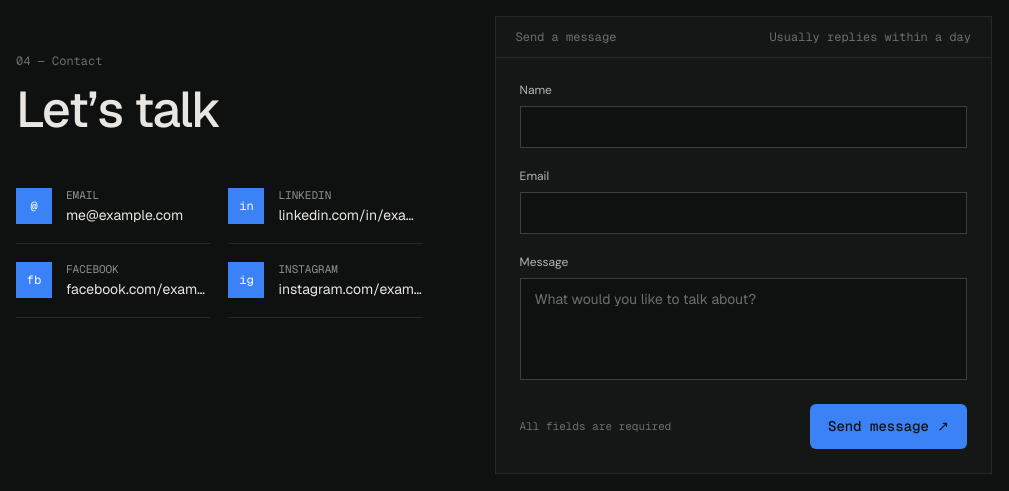
Scenario: Contact › disables the submit button while sending
This screenshot has width=1009, height=491.
Type "Jane Doe" into the field labelled "Name". click: (743, 127)
box: [520, 106, 967, 148]
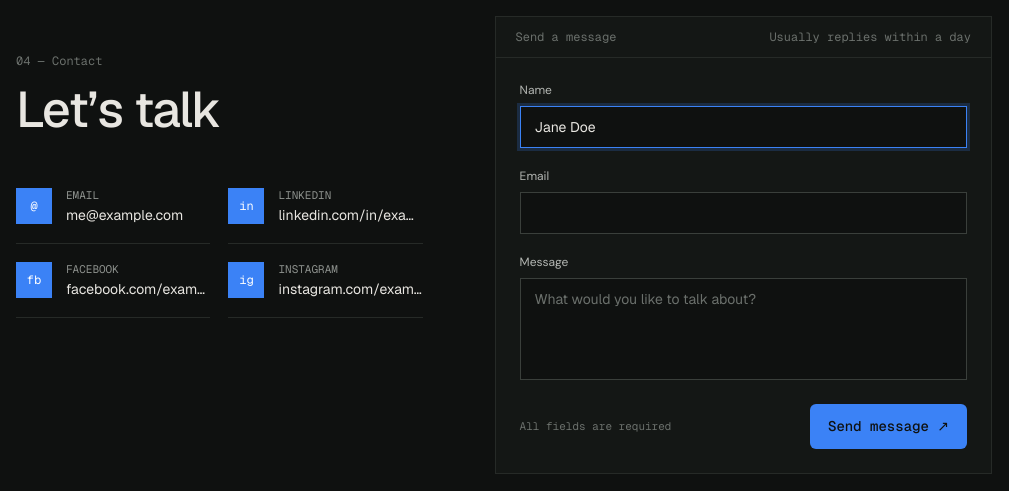
Type "jane@example.com" into the field labelled "Email". click: (743, 213)
box: [520, 192, 967, 234]
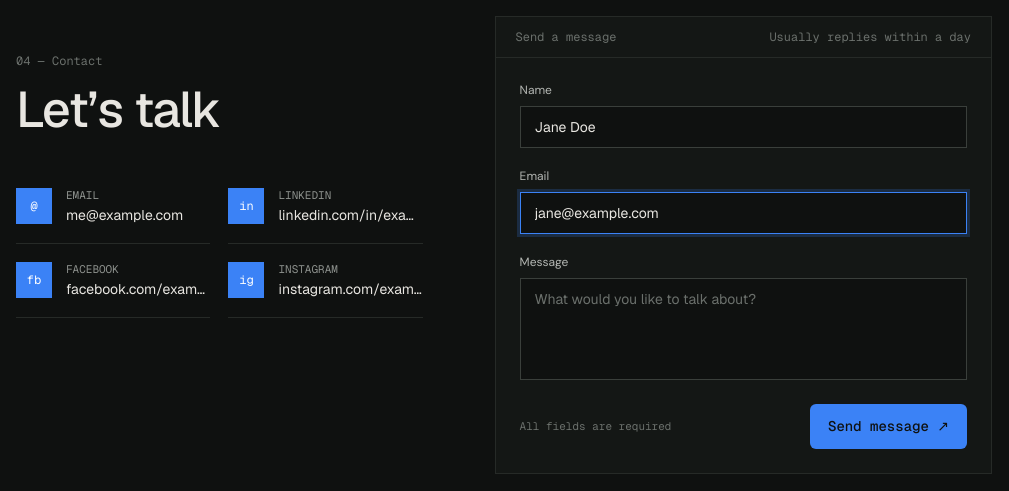
Type "Hello there" into the text box labelled "Message". click: (743, 329)
box: [520, 278, 967, 380]
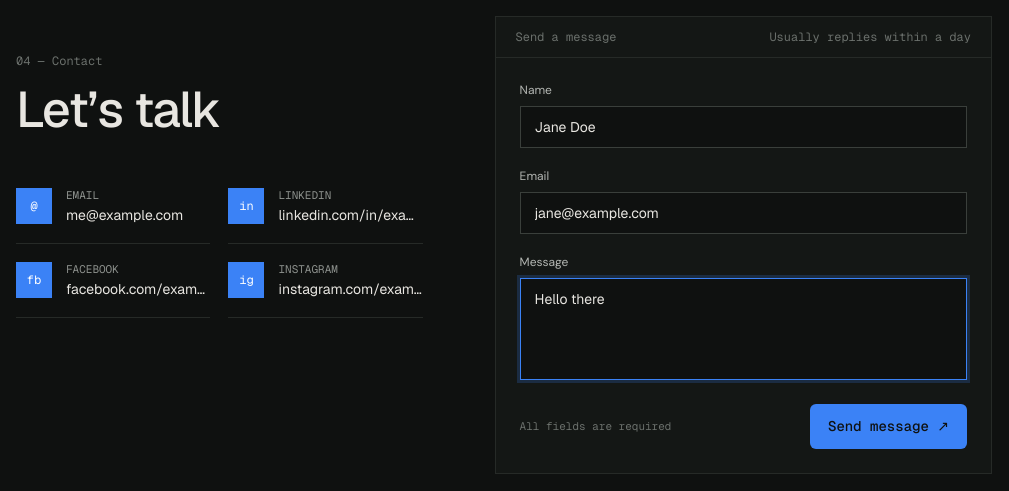
Click the button "Send message ↗". click: (889, 426)
box: [810, 404, 967, 449]
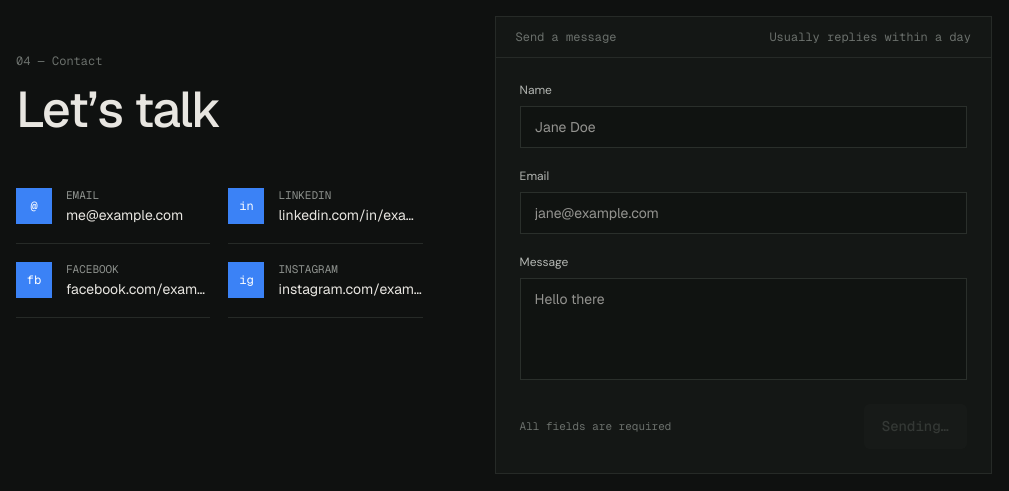
expect the button "Sending…" is disabled: met, box [864, 404, 967, 449]
